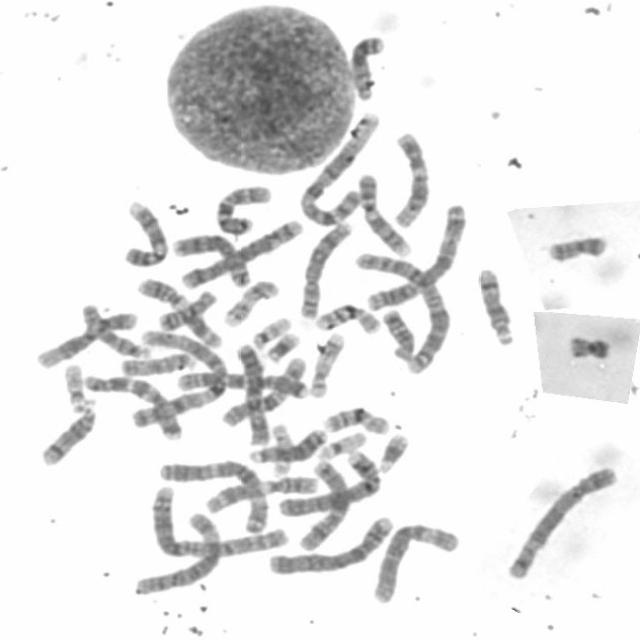A1: (126, 323, 229, 429), (294, 108, 384, 227)
A2: (350, 244, 454, 376), (147, 482, 290, 560)
A3: (360, 198, 470, 311), (154, 455, 270, 535)
B4: (263, 510, 396, 577), (274, 445, 383, 517)
B5: (501, 459, 622, 581), (175, 213, 307, 290)
C10: (218, 352, 310, 429), (210, 178, 274, 236)
C11: (132, 272, 222, 348), (202, 472, 321, 514)
C12: (31, 305, 141, 370), (388, 125, 433, 228)
C6: (130, 506, 223, 598), (367, 516, 462, 606)
C7: (79, 369, 185, 442), (172, 366, 314, 400)
C8: (294, 214, 356, 320), (168, 228, 253, 288)
C9: (352, 168, 416, 258), (120, 195, 171, 268)
D13: (247, 423, 330, 464), (345, 30, 388, 102)
D14: (36, 398, 100, 469), (472, 262, 518, 348)
D15: (76, 297, 153, 360), (115, 348, 196, 377)
E16: (312, 298, 384, 335), (319, 401, 393, 437)
E17: (220, 275, 282, 328), (307, 327, 347, 399)
E18: (153, 285, 219, 333), (379, 304, 418, 362)
F19: (313, 426, 368, 461), (265, 419, 295, 476)
F20: (542, 228, 612, 264), (563, 329, 614, 362)
G21: (374, 427, 412, 474), (261, 327, 303, 364)
G22: (248, 311, 294, 350), (59, 358, 91, 413)
X: (297, 456, 353, 553), (232, 338, 272, 449)
